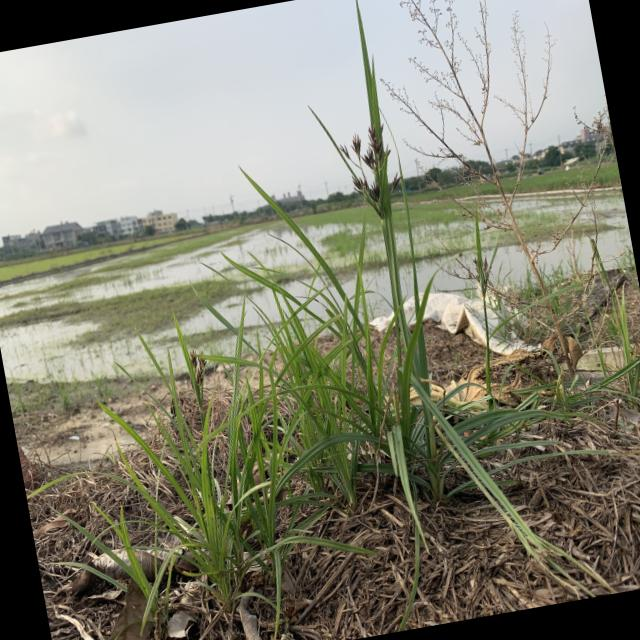cyperus: (328, 112, 412, 228), (447, 240, 498, 308), (182, 341, 215, 396)
